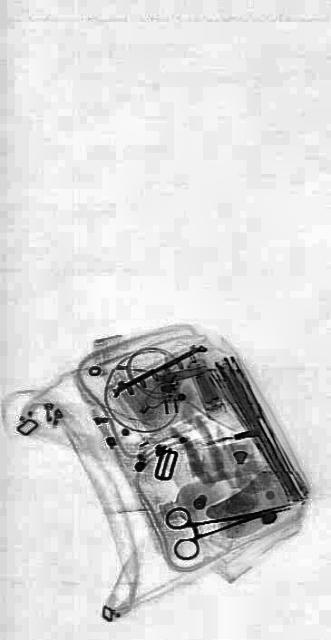Scissors: (164, 479, 292, 563)
